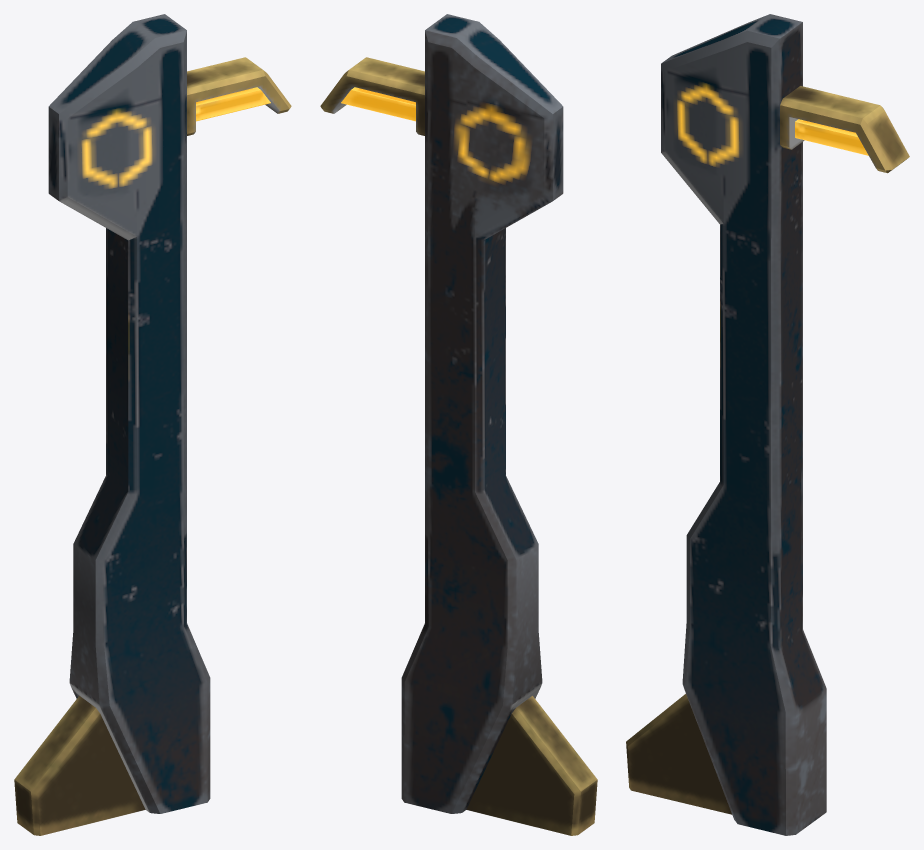
The model's file is SM_lamp_post.fbx.
3 views of the same model, side by side, from view 1: azimuth 30°, elevation 25°; view 2: azimuth 150°, elevation 25°; view 3: azimuth 330°, elevation 25° (orthographic). The views are drawn at different scales.
Visible parts, largest first — view 1: SM_lamp_post; view 2: SM_lamp_post; view 3: SM_lamp_post.
Boxes of the visible parts, bbox=[...] form: SM_lamp_post: bbox=[14, 14, 291, 835]; SM_lamp_post: bbox=[320, 14, 597, 835]; SM_lamp_post: bbox=[626, 14, 909, 835].
Size of the model in its own units: 82.62 by 234 by 20.39.
